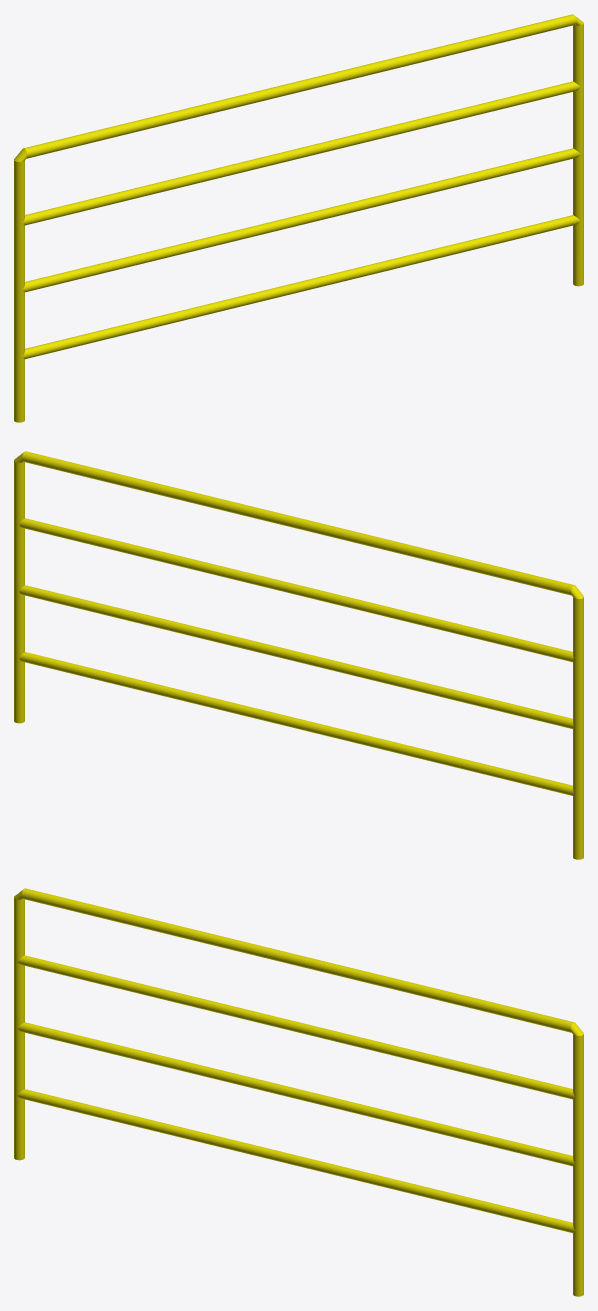
Rendered from Railing.fbx.
The picture shows the model from 3 angles, top to bottom: view 1: azimuth 30°, elevation 25°; view 2: azimuth 150°, elevation 25°; view 3: azimuth 330°, elevation 25°; orthographic projection.
Parts seen in each view (by area): view 1: Cylinder; view 2: Cylinder; view 3: Cylinder.
Part boxes in pixels (bbox=[...]): Cylinder: bbox=[14, 14, 583, 422]; Cylinder: bbox=[14, 451, 583, 859]; Cylinder: bbox=[14, 888, 583, 1296].
Bounding box in the file's own units: 890 × 405 × 15.31.
